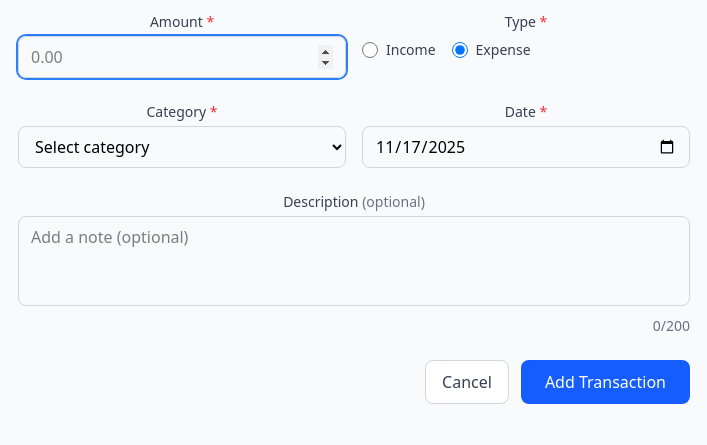
Test: TransactionForm › Validation › should show error for negative amount
The width and height of the screenshot is (707, 445).
Step 1. Type "-10" into the number field labelled "Amount *" → coordinates (182, 57), box [18,36,346,78]
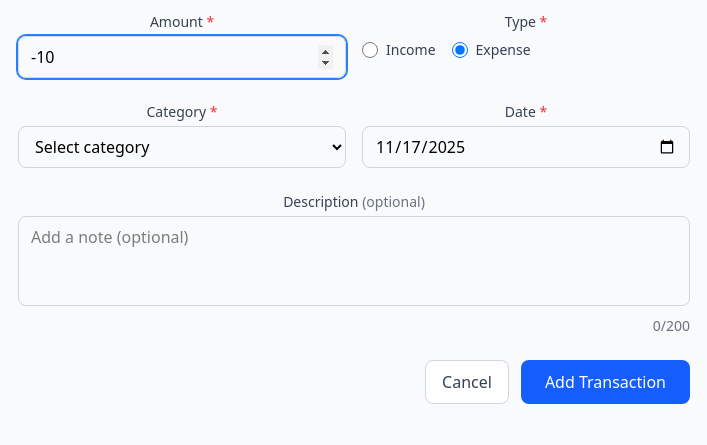
Step 2. Press Tab
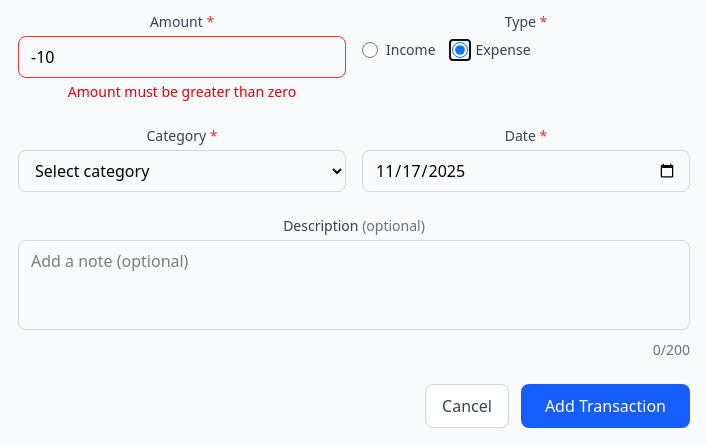
Check: the text "Amount must be greater than zero" is shown, box [68,82,296,101]
